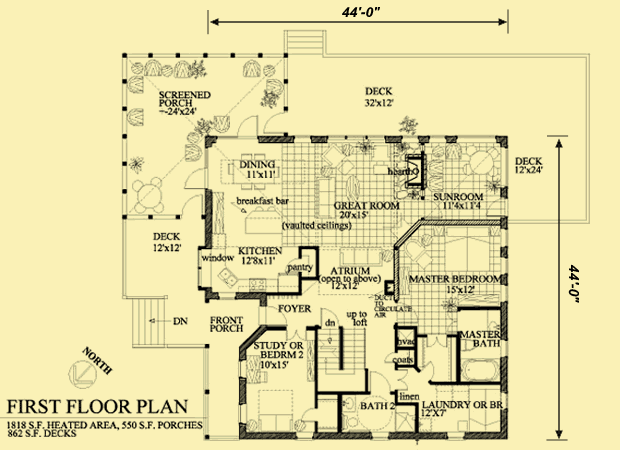bathroom has a shower space with small and large sink: (341, 395, 417, 438)
bedroom has a double bed with bedside stands: (238, 324, 318, 440)
bedroom has a double bed with couch: (393, 220, 507, 309)
hall has a dining table for eating: (205, 132, 305, 240)
kitchen has a twin sink and cooking range: (195, 241, 302, 299)
livingroom has small and large sofa with table: (306, 136, 400, 292)
master bathroom has a bathtub with small and large sink: (453, 303, 507, 389)
